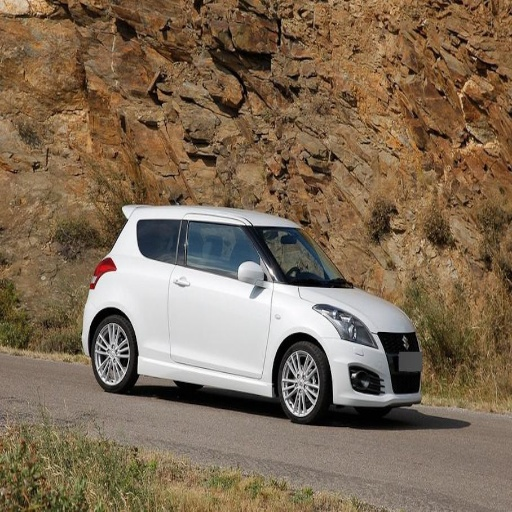back_right_door: (135, 217, 186, 360)
front_bumper: (329, 331, 427, 407)
front_right_door: (171, 218, 273, 378)
front_right_light: (316, 307, 375, 345)
